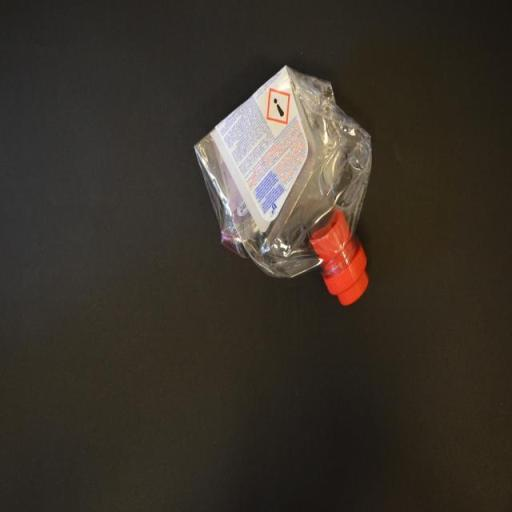plastic: (194, 62, 372, 306)
